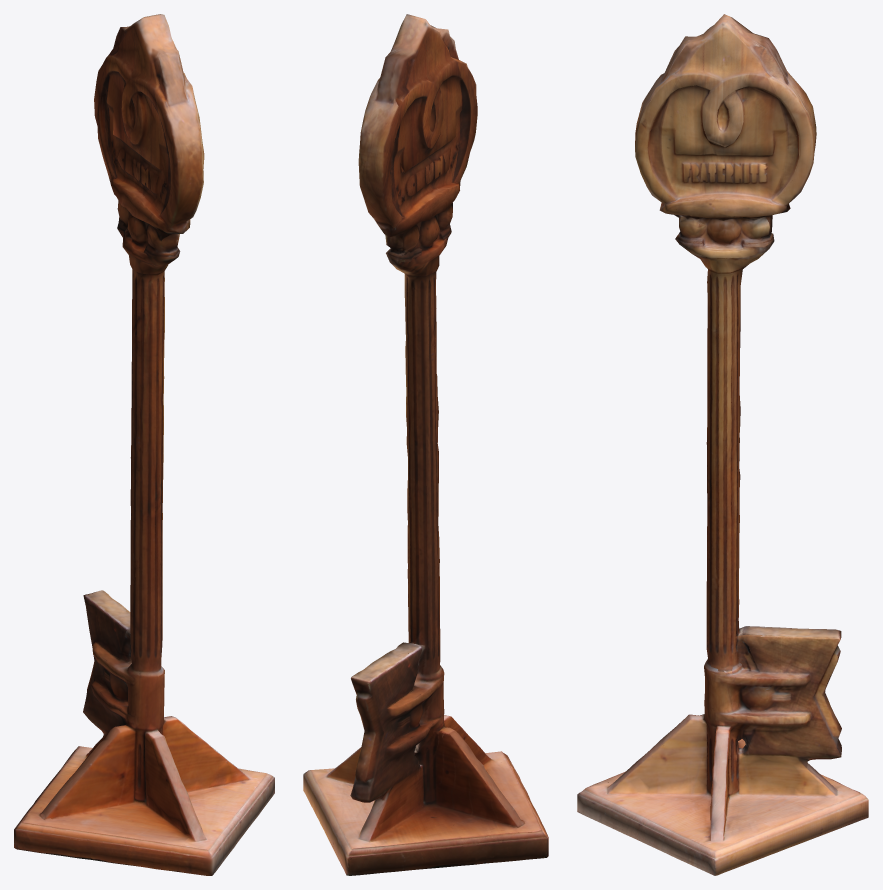
Rendered from cle1.obj.
3 views of the same model, side by side, from view 1: azimuth 30°, elevation 25°; view 2: azimuth 150°, elevation 25°; view 3: azimuth 270°, elevation 25° (orthographic).
Visible parts, largest first — view 1: default; view 2: default; view 3: default.
Part boxes in pixels (left/top/right/bottom): default: left=14, top=14, right=274, bottom=875; default: left=303, top=14, right=548, bottom=875; default: left=577, top=14, right=868, bottom=875.
Size of the model in its own units: 0.5695 by 1.73 by 0.5728.
